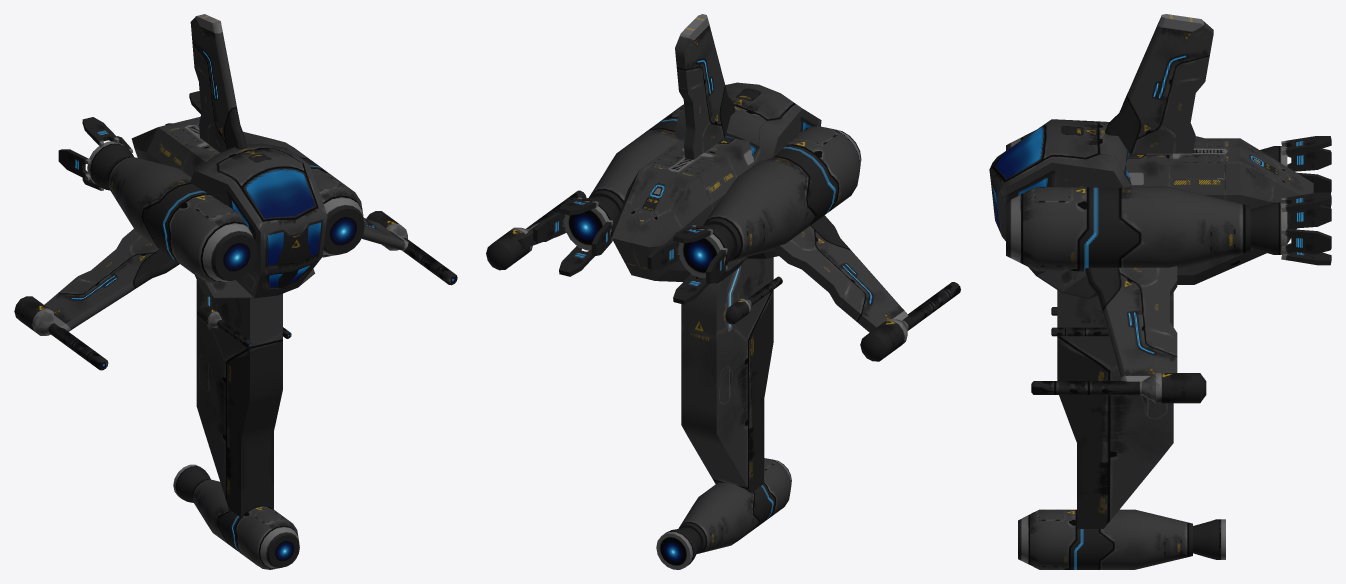
File: uscx_starforce01.glb
The picture shows the model from 3 angles, left to right: view 1: azimuth 30°, elevation 25°; view 2: azimuth 150°, elevation 25°; view 3: azimuth 270°, elevation 25°; orthographic projection. The views are drawn at different scales.
Parts seen in each view (by area): view 1: StarForce01; view 2: StarForce01; view 3: StarForce01.
Boxes of the visible parts, x1,y1,x2,y2 form: StarForce01: (14,14,457,569); StarForce01: (486,14,960,569); StarForce01: (989,14,1331,569).
Size of the model in its own units: 7.3 by 9.43 by 5.31.
Materials: 1 (1 with a texture image).
